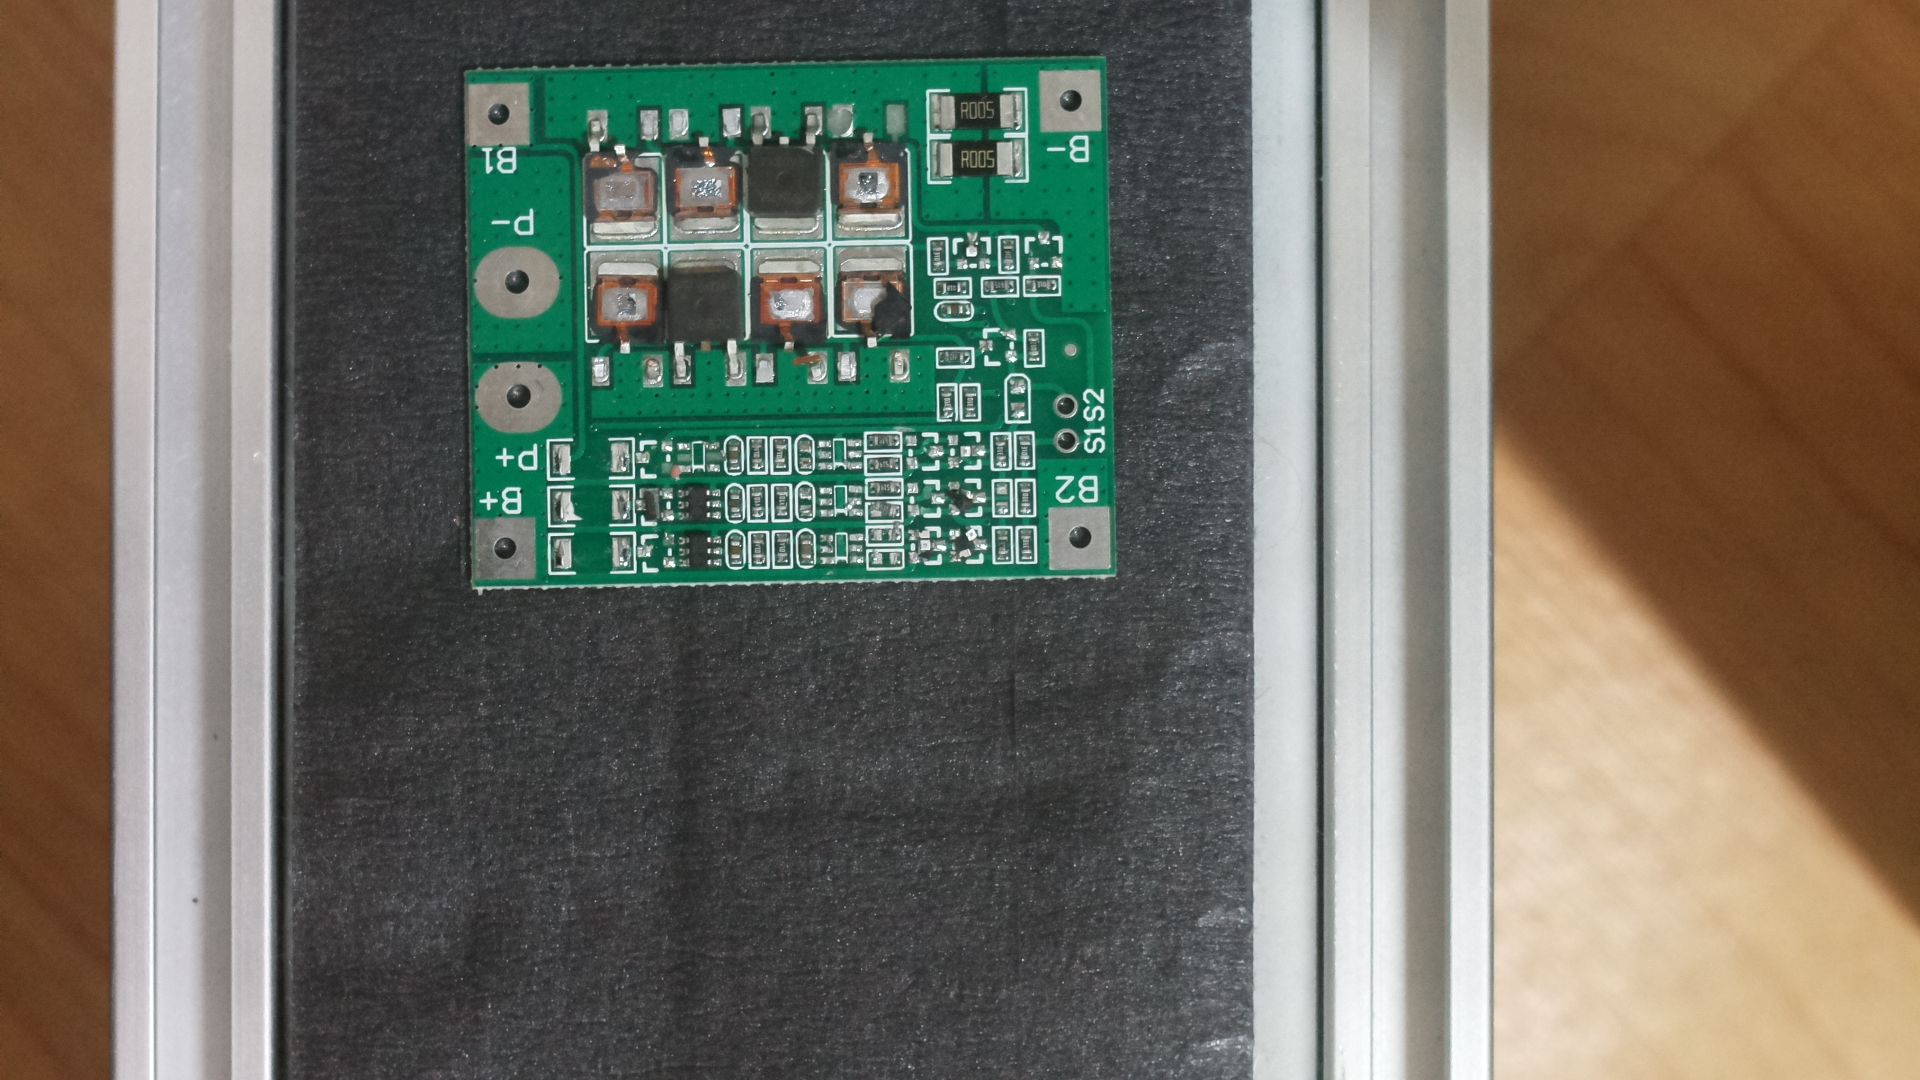C_Missing_part: (455, 42, 1122, 617)
